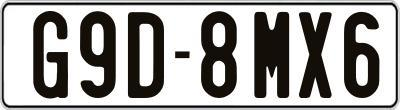6: (343, 10, 384, 102)
8: (200, 11, 238, 101)
9: (78, 10, 114, 100)
D: (126, 10, 166, 100)
G: (32, 10, 69, 103)
M: (254, 11, 295, 97)
X: (298, 11, 334, 97)
